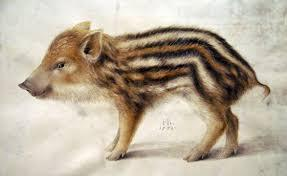wildboar: (14, 19, 273, 162)
